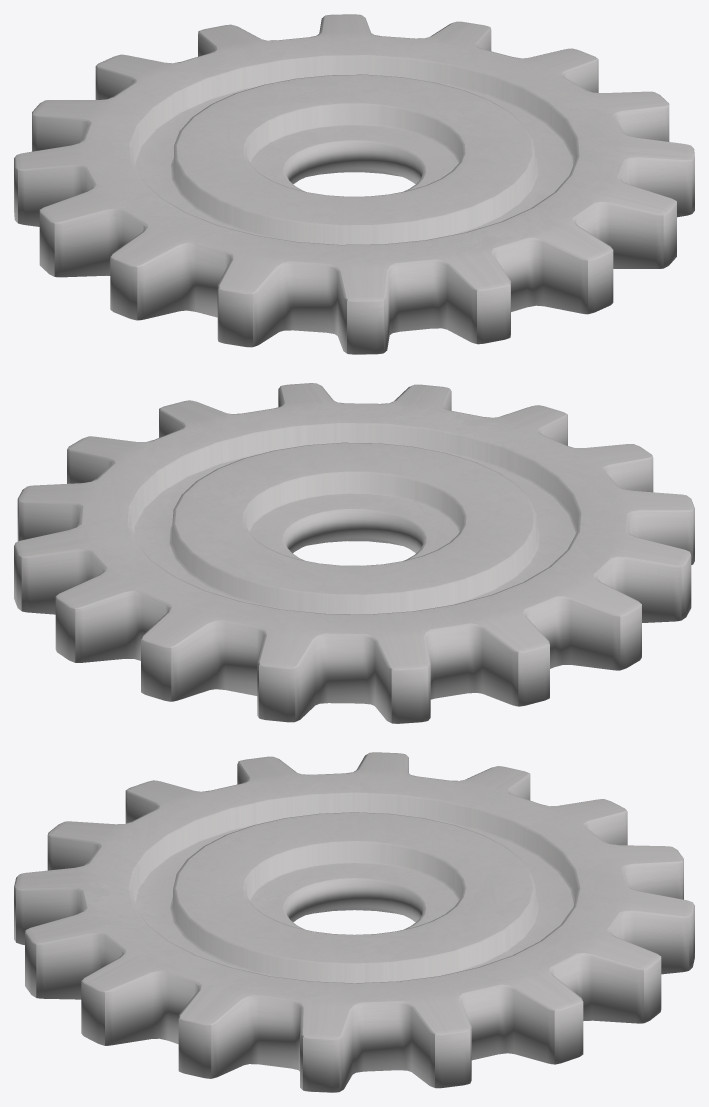
The model's file is Tech-Gear.fbx.
3 renders of one model, top to bottom at view 1: azimuth 30°, elevation 25°; view 2: azimuth 150°, elevation 25°; view 3: azimuth 270°, elevation 25°, orthographic.
Parts seen in each view (by area): view 1: Cylinder; view 2: Cylinder; view 3: Cylinder.
Part boxes in pixels (x1,y1,x2,y2): Cylinder: [14, 14, 694, 354]; Cylinder: [14, 383, 694, 723]; Cylinder: [14, 752, 694, 1092].
Size of the model in its own units: 197 by 22.16 by 197.
1 material, 1 textured.
